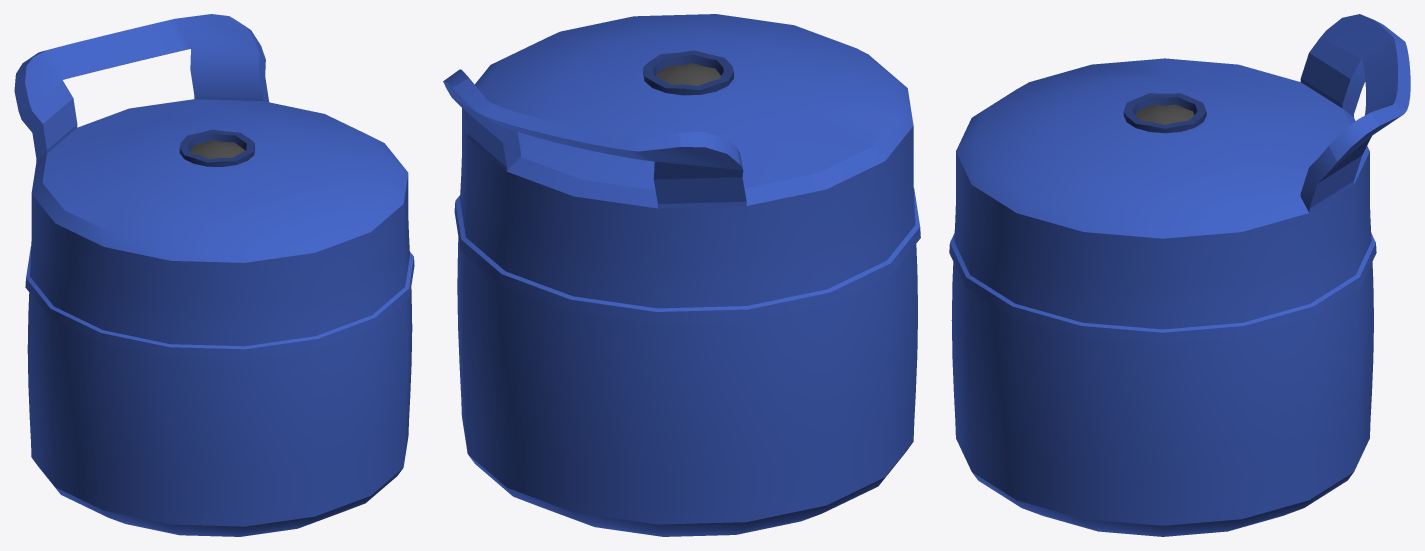
File: gas4.glb
3 views of the same model, side by side, from view 1: azimuth 30°, elevation 25°; view 2: azimuth 150°, elevation 25°; view 3: azimuth 270°, elevation 25° (orthographic). The views are drawn at different scales.
Visible parts, largest first — view 1: Gas4; view 2: Gas4; view 3: Gas4.
Boxes of the visible parts, x1,y1,x2,y2 form: Gas4: (14, 14, 414, 536); Gas4: (443, 14, 920, 536); Gas4: (949, 14, 1410, 536).
Bounding box in the file's own units: 1.8 × 1.86 × 1.95.
